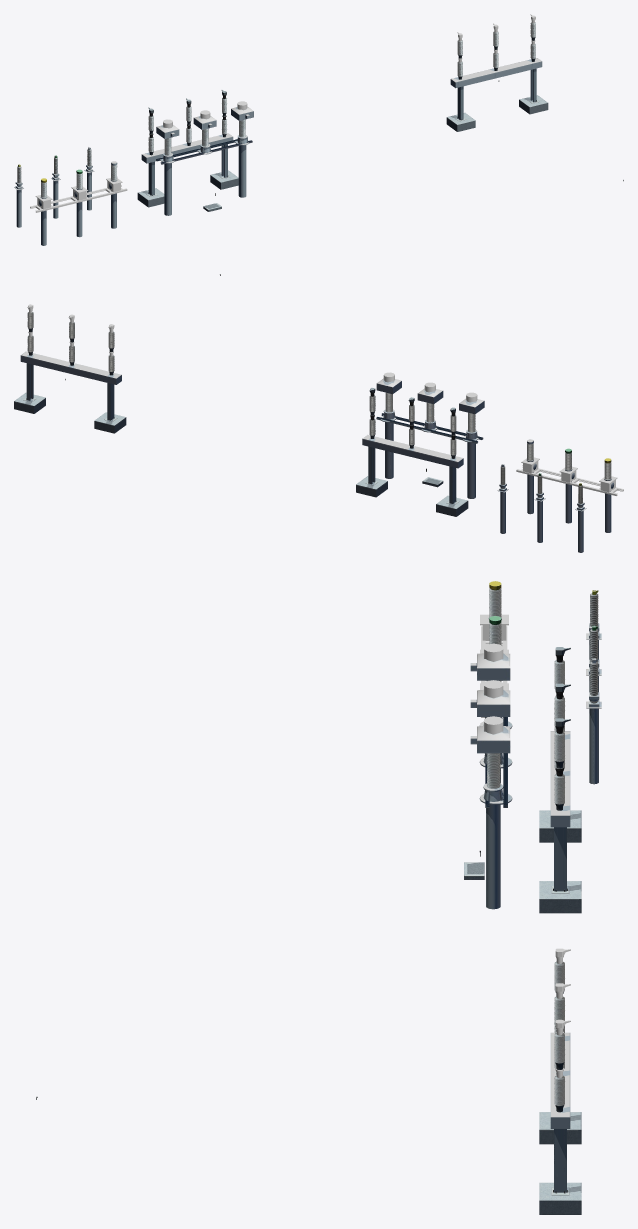
3 views of the same model, one above another, from view 1: azimuth 30°, elevation 25°; view 2: azimuth 150°, elevation 25°; view 3: azimuth 270°, elevation 25° (orthographic). The views are drawn at different scales.
Visible parts, largest first — view 1: 10-2号主变端子箱.1, 10-2号主变端子箱.2, 10-大电压器1号的.2, 10-材质.17 (×2); view 2: 10-2号主变端子箱.1, 10-大电压器1号的.2, 10-2号主变端子箱.2, 10-材质.17 (×2); view 3: 10-2号主变端子箱.1, 10-大电压器1号的.2, 10-2号主变端子箱.2, 10-材质.17.
Part boxes in pixels (x1,y1,x2,y2): 10-2号主变端子箱.1: (14,106,253,245); 10-2号主变端子箱.2: (446,22,623,181); 10-大电压器1号的.2: (137,90,238,207); 10-材质.17 (×2): (30,101,247,212); 10-2号主变端子箱.1: (376,378,613,552); 10-大电压器1号的.2: (356,388,468,516); 10-2号主变端子箱.2: (14,274,220,433); 10-材质.17 (×2): (383,372,623,495); 10-2号主变端子箱.1: (464,581,601,909); 10-大电压器1号的.2: (539,647,581,913); 10-2号主变端子箱.2: (36,961,581,1214); 10-材质.17: (480,614,508,734).
Size of the model in its own units: 26.6 by 4.51 by 12.38.
Materials: 6 (3 with a texture image).
